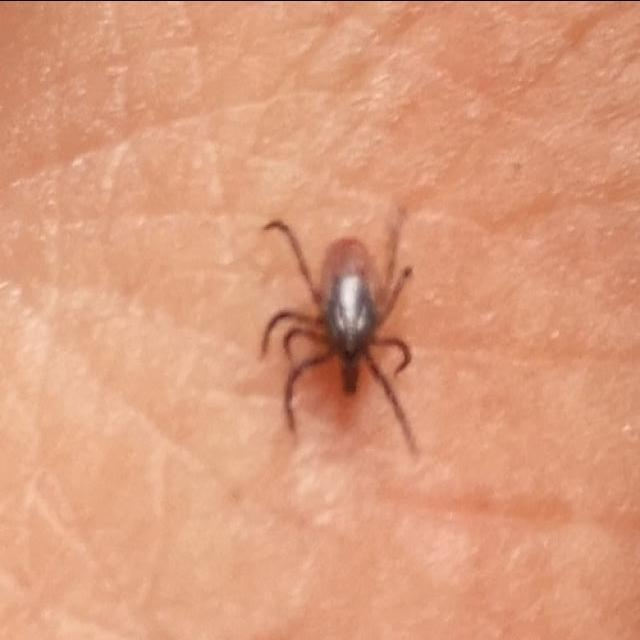Ixodes Ricinus-F: (262, 221, 412, 443)
